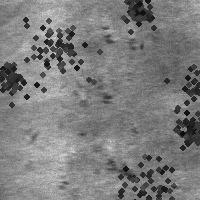rolled-in_scale: (8, 0, 106, 98), (59, 83, 136, 182), (96, 139, 188, 200), (157, 50, 200, 122), (0, 50, 32, 102), (95, 22, 145, 52), (168, 107, 200, 151), (116, 0, 158, 31)
